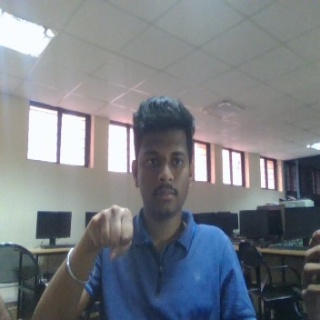Face: (131, 96, 195, 217)
Yes: (83, 204, 138, 262)
